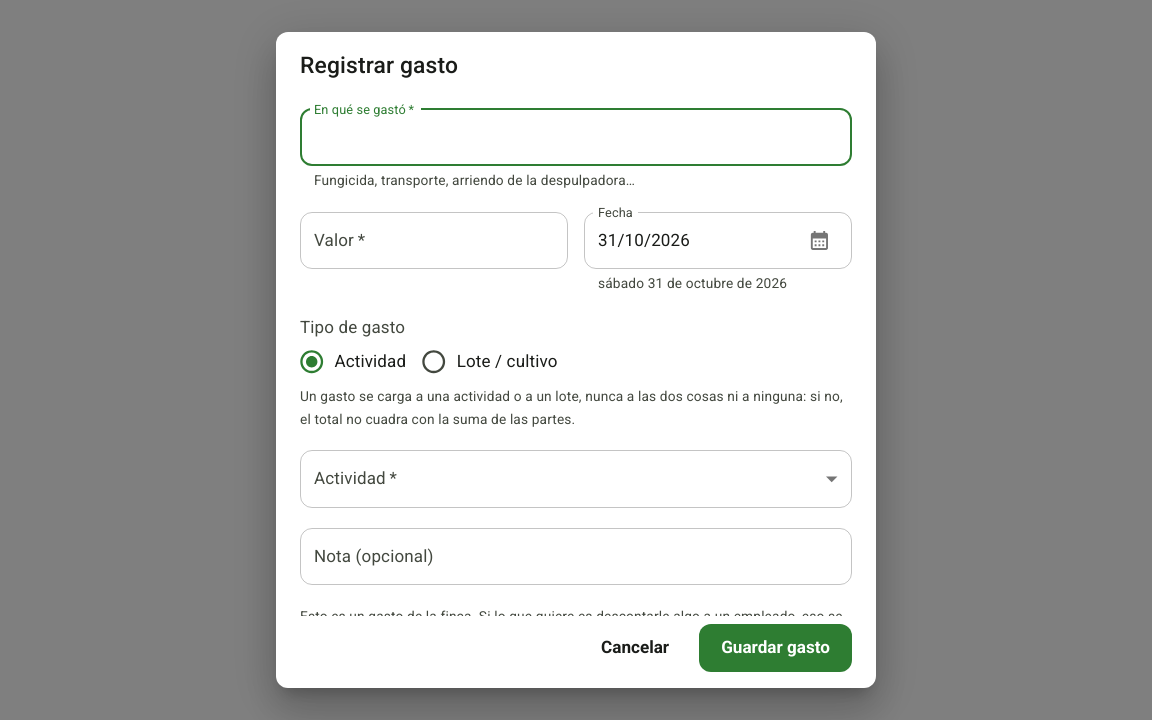
Test: ExpenseFormDialog › asks for every missing field, then for a real number, then for more than zero
This screenshot has width=1152, height=720.
Step 1. Click the button "Guardar gasto" → (776,648), box [699,624,852,672]
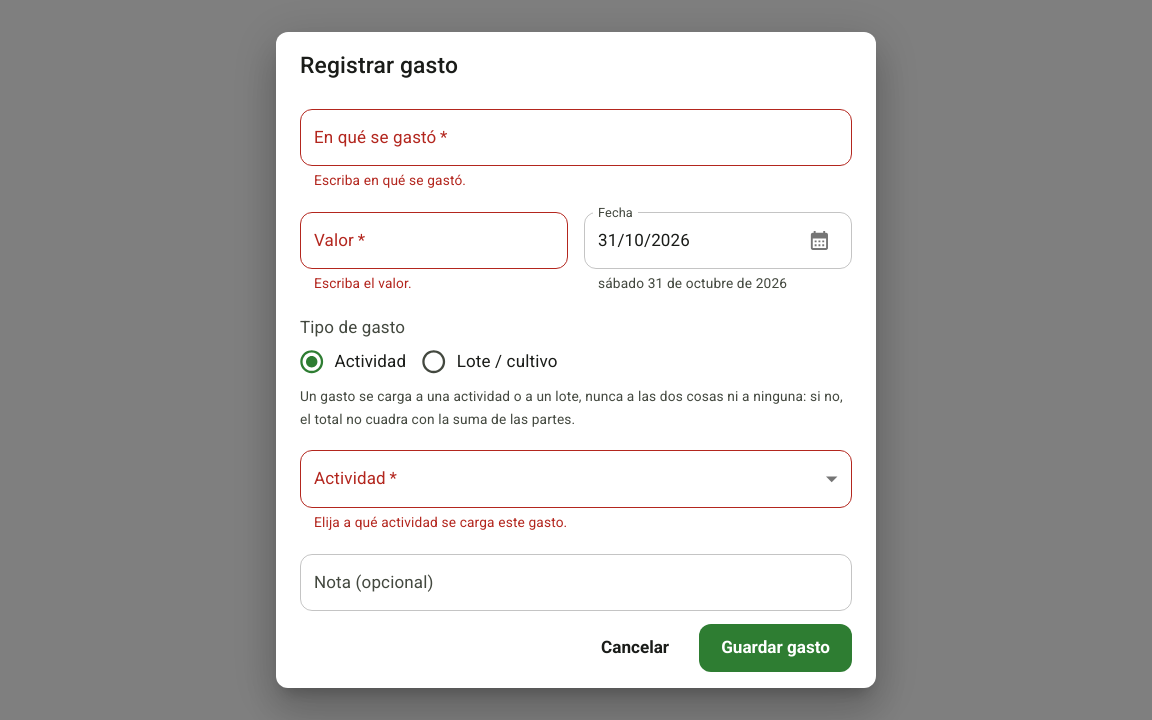
expect the text "Escriba en qué se gastó." is shown: met, box [314,172,466,188]
expect the text "Escriba el valor." is shown: met, box [314,275,412,291]
expect the text "Elija a qué actividad se carga este gasto." is shown: met, box [314,514,567,530]
Step 2. Type "abc" into the field labelled "Valor *" → (434,240), box [300,212,568,269]
Step 3. Click the button "Guardar gasto" → (776,648), box [699,624,852,672]
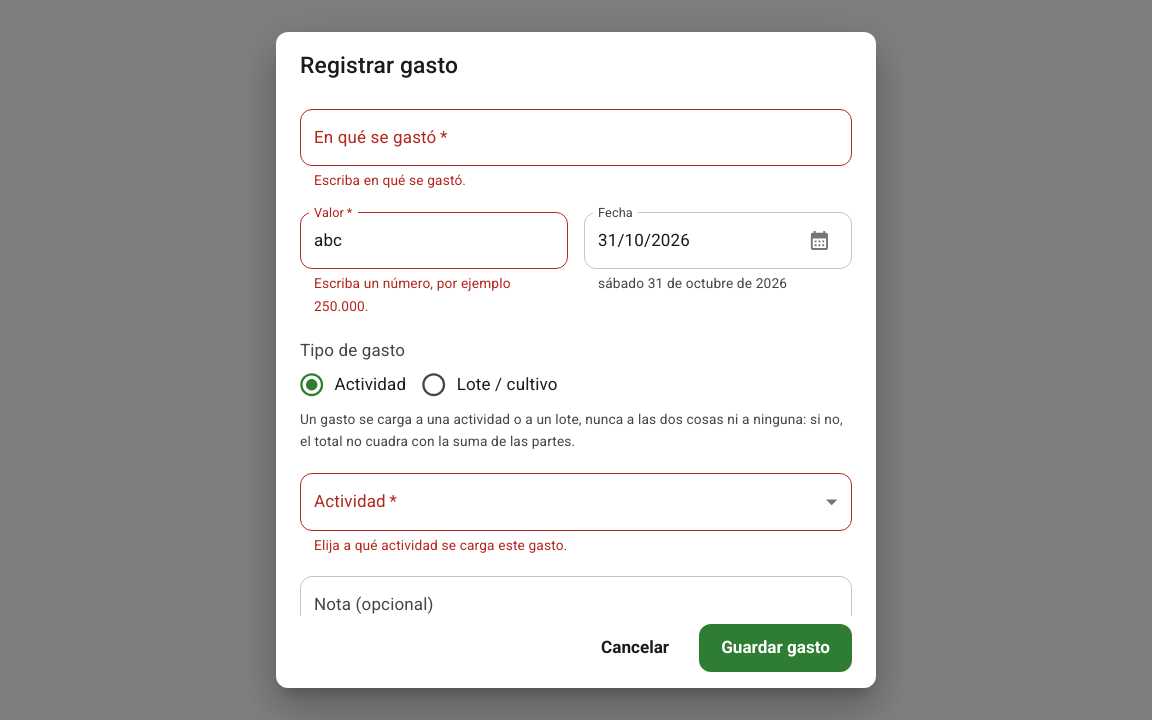
expect the text "Escriba un número, por ejemplo 250.000." is shown: met, box [314,275,511,314]
Step 4. Replace the text in the field labelled "Valor *" with "0" → (434,240), box [300,212,568,269]
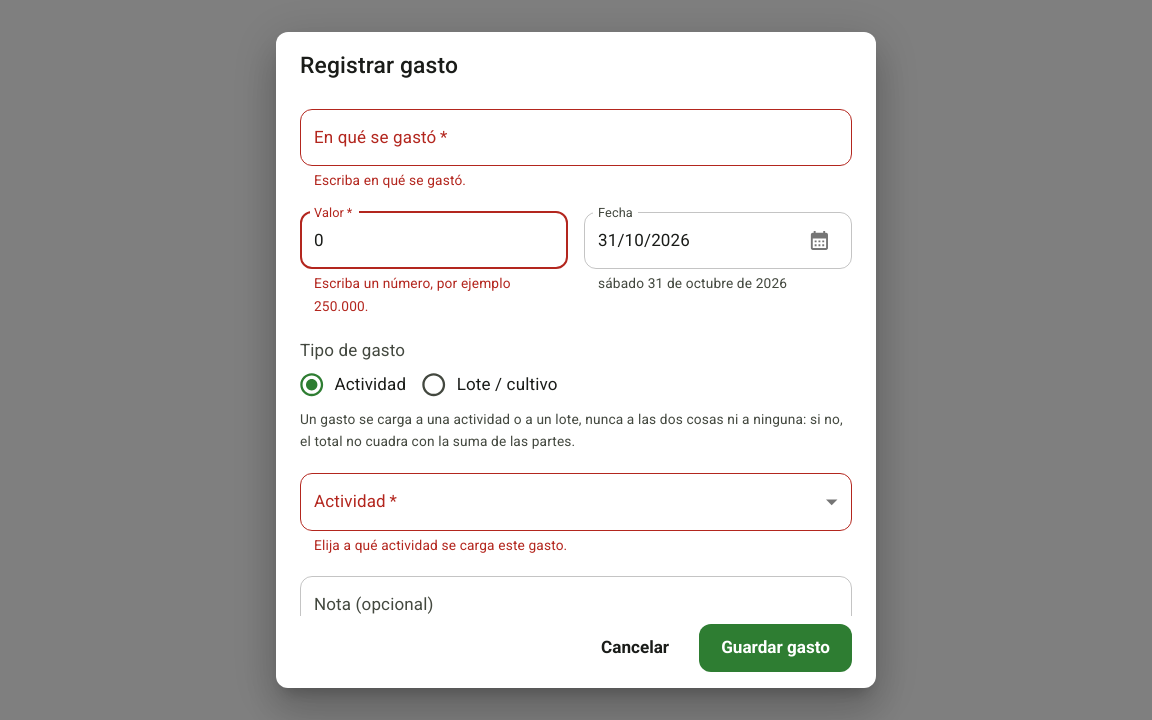
Step 5. Click the button "Guardar gasto" → (776,648), box [699,624,852,672]
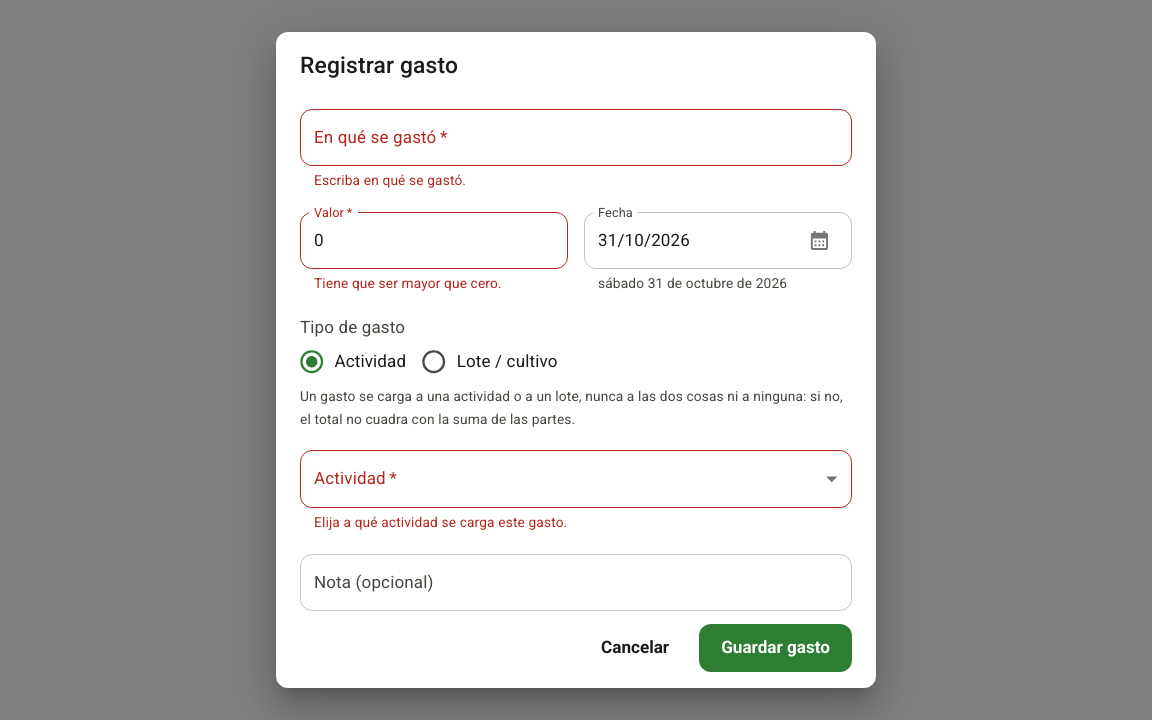
expect the text "Tiene que ser mayor que cero." is shown: met, box [314,275,502,291]
Step 6. Click the radio button labelled "Lote / cultivo" → (484,362), box [411,339,558,385]
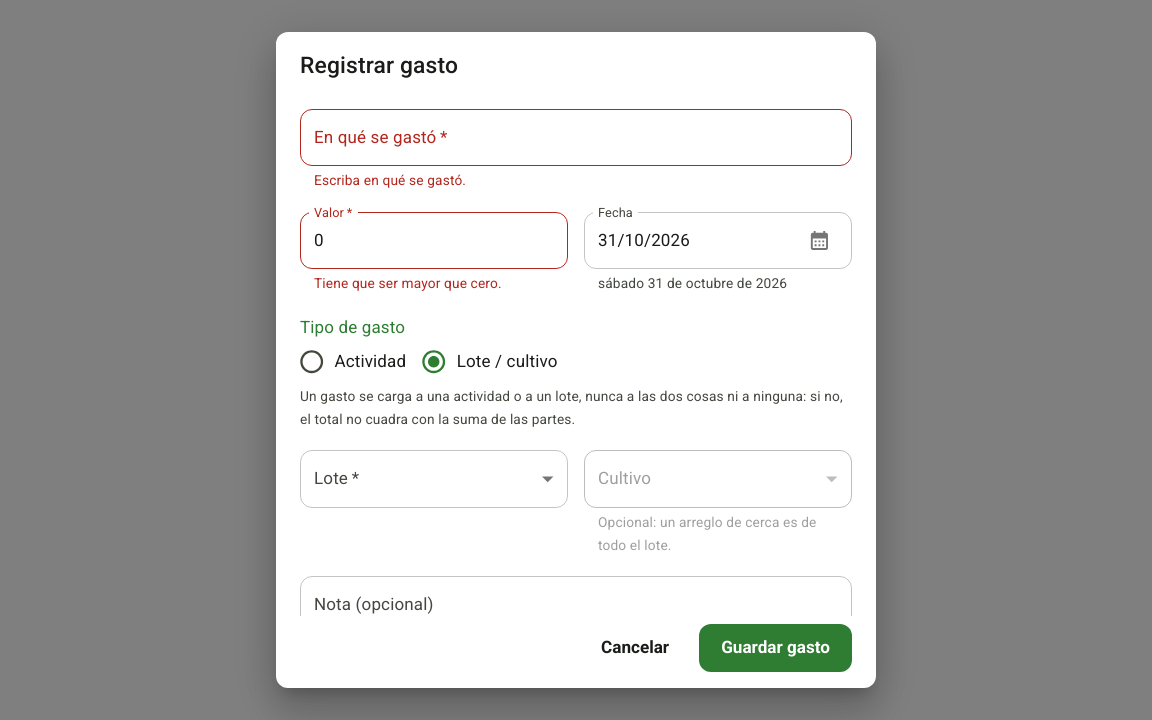
Step 7. Click the button "Guardar gasto" → (776,648), box [699,624,852,672]
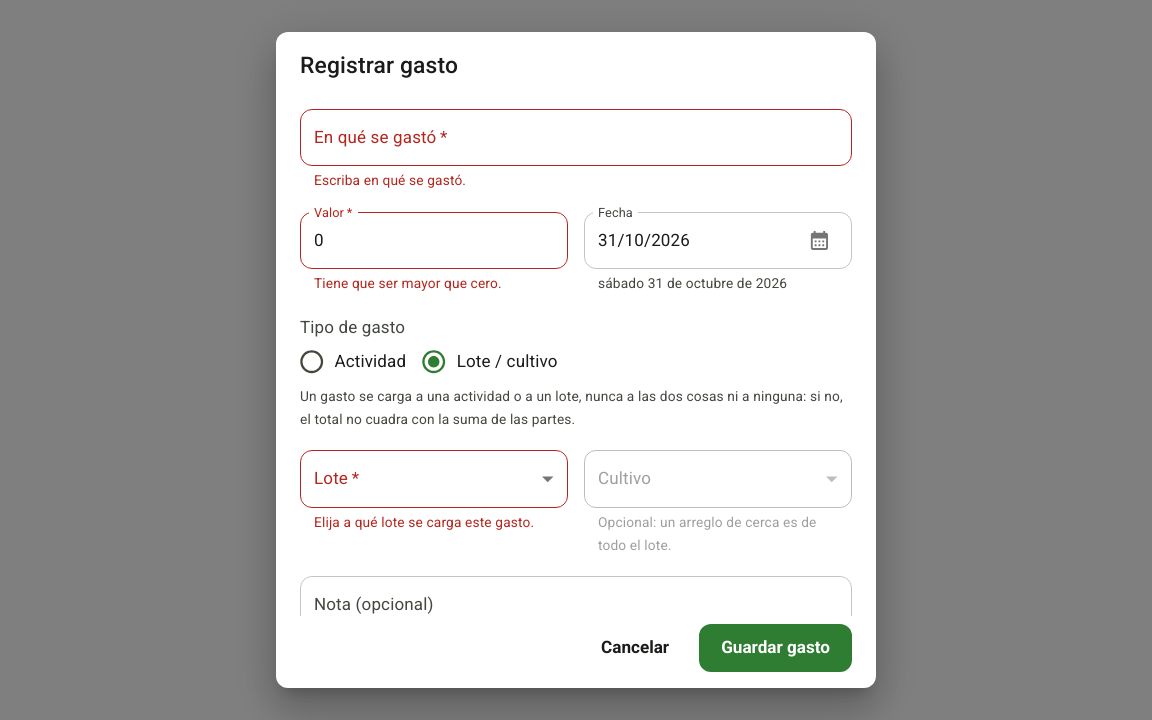
expect the text "Elija a qué lote se carga este gasto." is shown: met, box [314,511,554,534]
